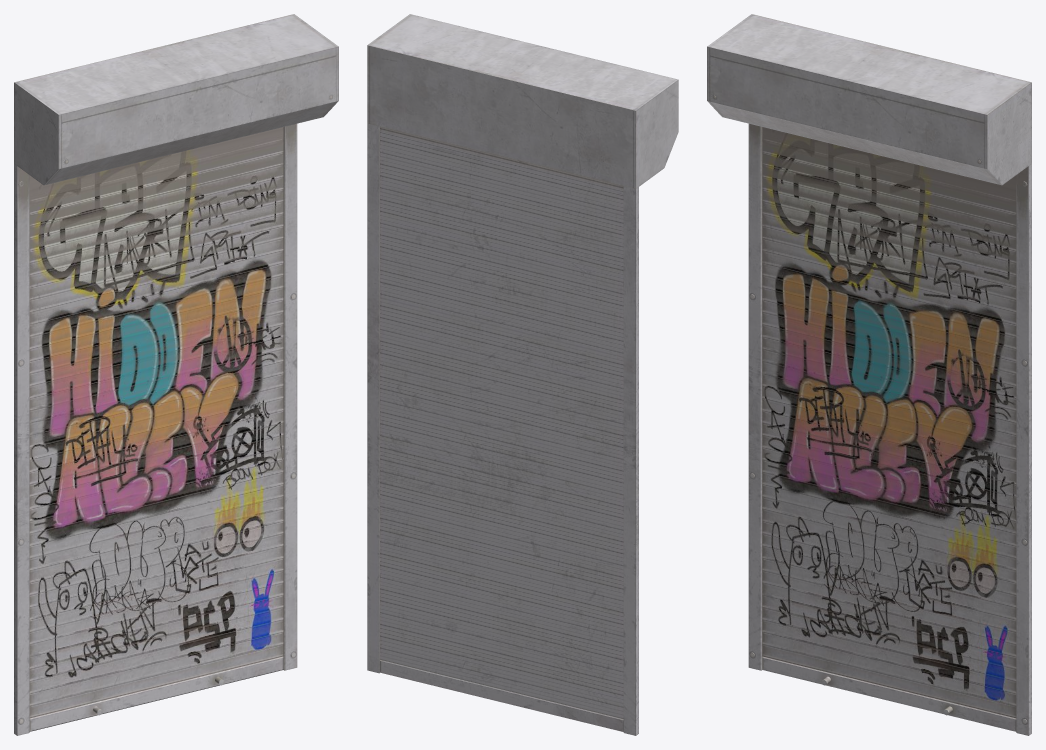
The model's file is shutter_door_graffiti.glb.
3 views of the same model, side by side, from view 1: azimuth 30°, elevation 25°; view 2: azimuth 150°, elevation 25°; view 3: azimuth 330°, elevation 25° (orthographic). The views are drawn at different scales.
Visible parts, largest first — view 1: shutter_door_graffiti; view 2: shutter_door_graffiti; view 3: shutter_door_graffiti.
Part boxes in pixels (x1=…): shutter_door_graffiti: x1=14, y1=14, x2=338, y2=735; shutter_door_graffiti: x1=367, y1=14, x2=678, y2=735; shutter_door_graffiti: x1=707, y1=14, x2=1031, y2=735.
Bounding box in the file's own units: 1.08 × 2.4 × 0.3001.
Materials: 1 (1 with a texture image).
